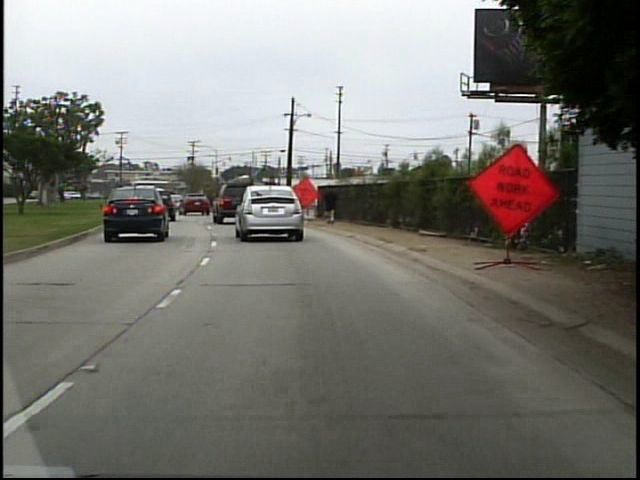person: (320, 182, 339, 226)
